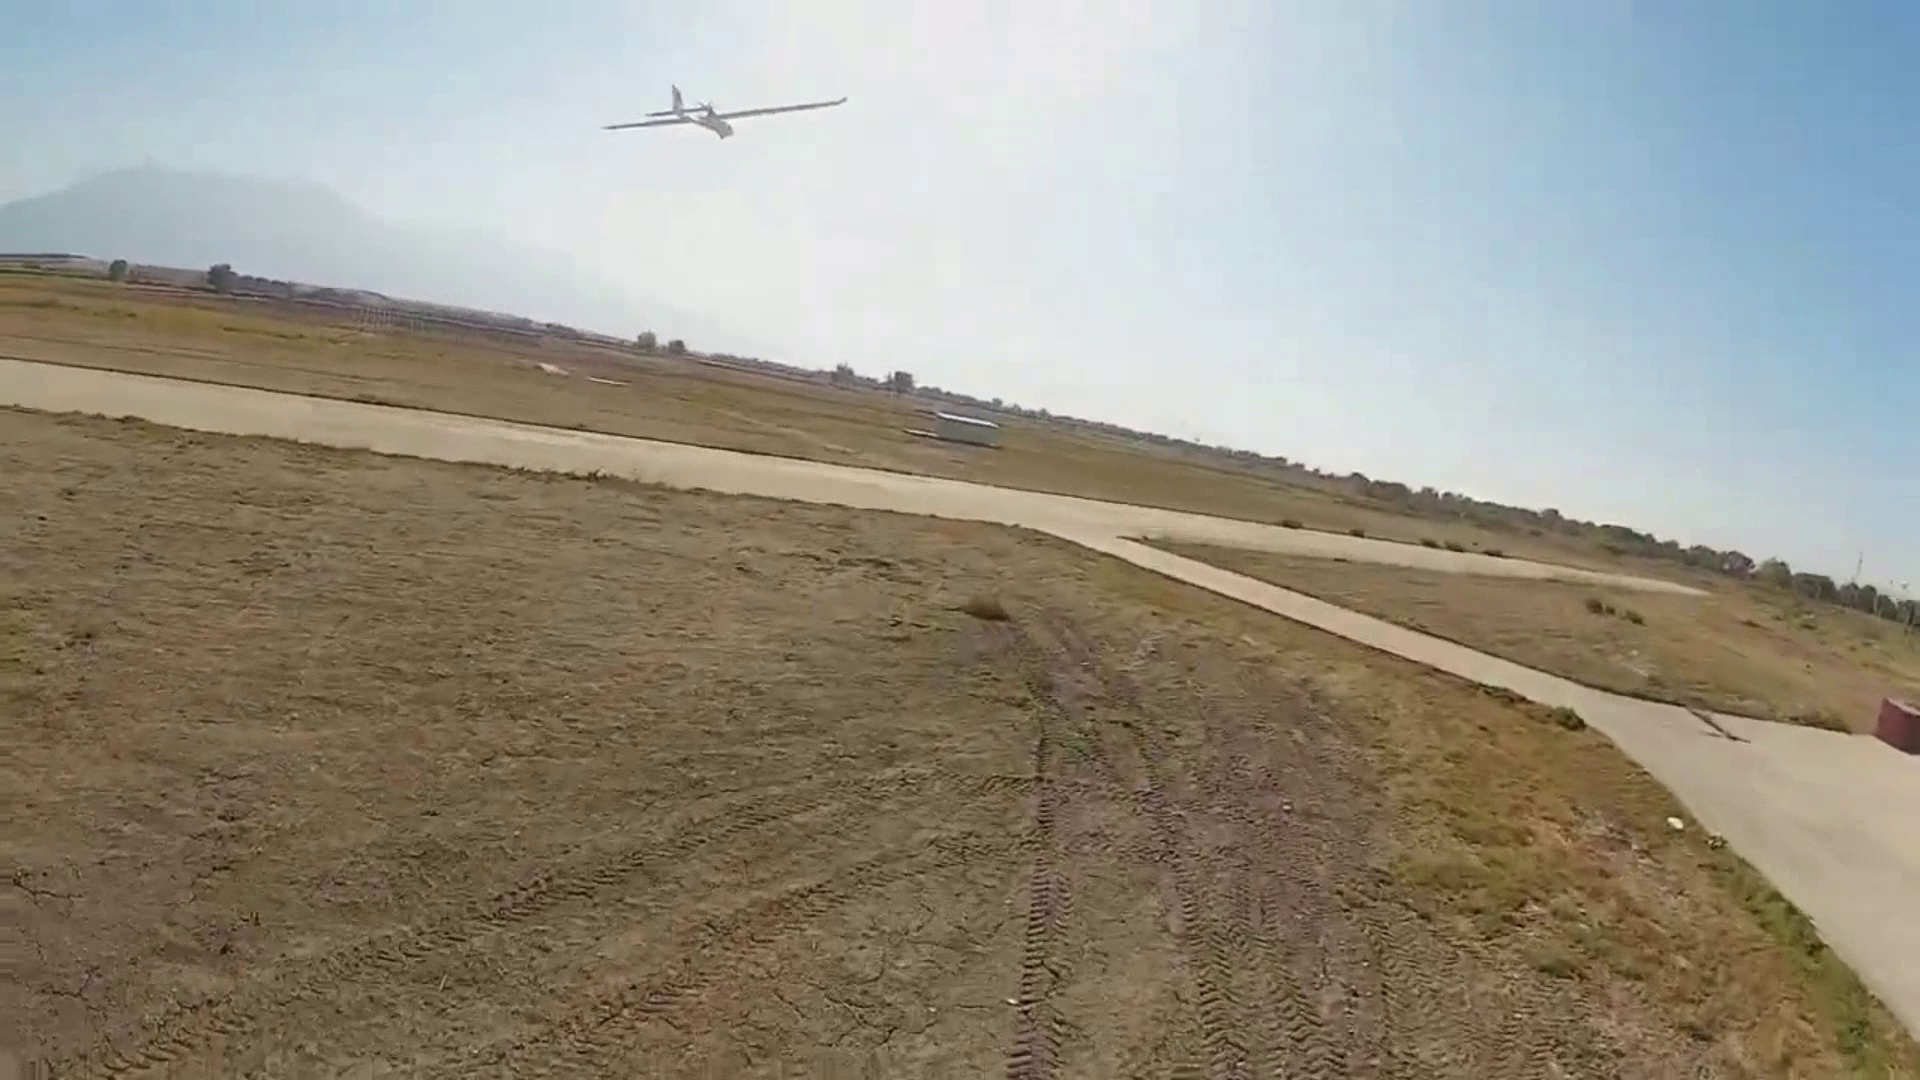airplane: (604, 80, 849, 138)
